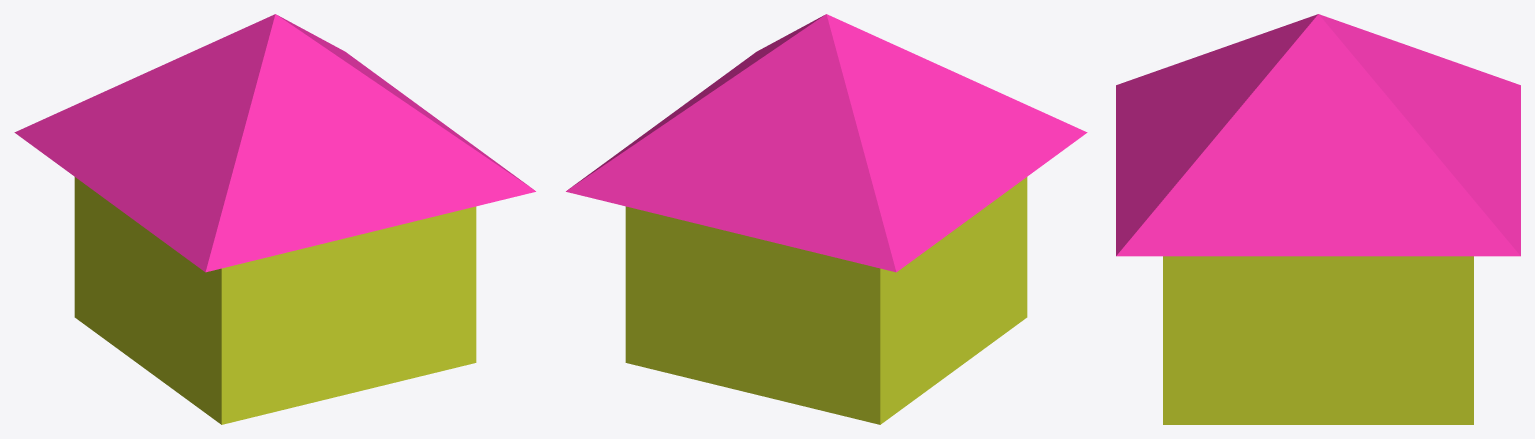
Rendered from house_behind_the_glass_base.glb.
3 views of the same model, side by side, from view 1: azimuth 30°, elevation 25°; view 2: azimuth 150°, elevation 25°; view 3: azimuth 270°, elevation 25° (orthographic). The views are drawn at different scales.
Parts seen in each view (by area): view 1: House, House.001; view 2: House, House.001; view 3: House, House.001.
Part boxes in pixels (bbox=[...]): House: bbox=[14, 14, 535, 272]; House.001: bbox=[74, 177, 476, 424]; House: bbox=[566, 14, 1087, 272]; House.001: bbox=[625, 177, 1027, 424]; House: bbox=[1116, 14, 1520, 256]; House.001: bbox=[1163, 256, 1473, 424].
Size of what is drawn, in the model's own units: 0.52 by 0.4894 by 0.52.
